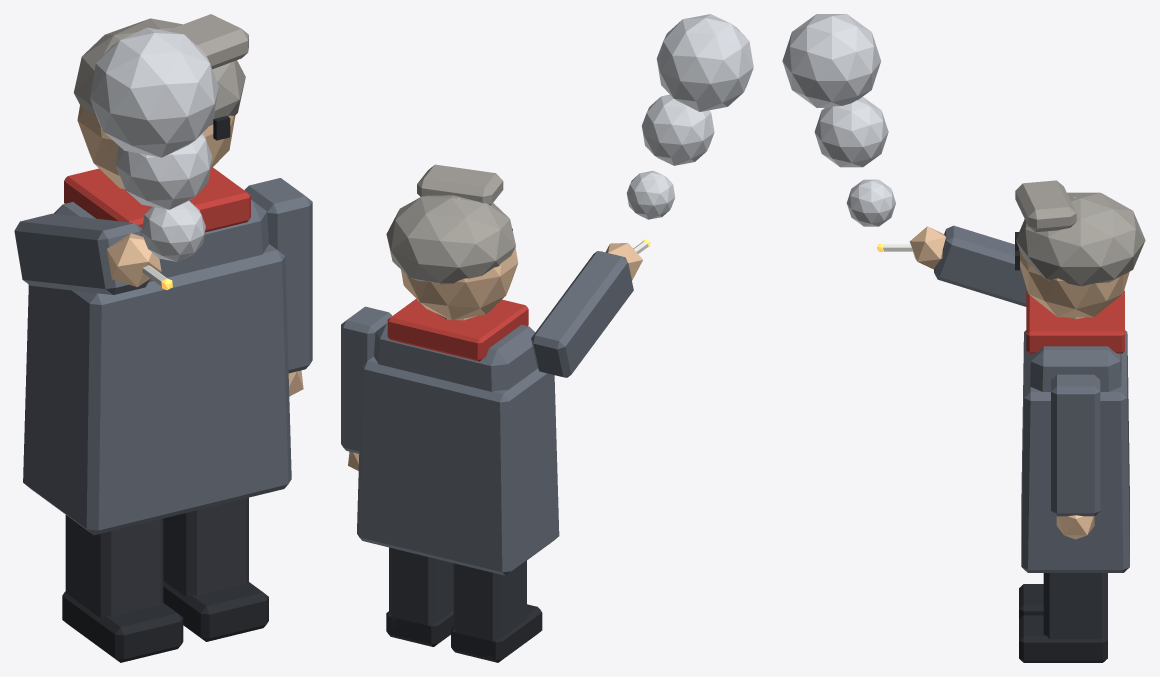
File: smoker.glb
3 renders of one model, left to right at view 1: azimuth 30°, elevation 25°; view 2: azimuth 150°, elevation 25°; view 3: azimuth 270°, elevation 25°, orthographic. The views are drawn at different scales.
Parts seen in each view (by area): view 1: Props, ArmR, LegR, Body, LegL, ArmL; view 2: Props, Body, ArmR, LegR, LegL, ArmL; view 3: ArmR, Props, Body, ArmL, LegL, LegR.
Part boxes in pixels (x1,y1,x2,y2): Props: (23,167,291,535); ArmR: (14,27,218,294); LegR: (62,515,183,662); Body: (53,14,268,282); LegL: (163,497,268,641); ArmL: (244,178,312,396); Props: (357,298,559,575); Body: (374,164,537,391); ArmR: (531,14,753,377); LegR: (451,560,542,662); LegL: (386,547,453,646); ArmL: (341,306,391,470); ArmR: (782,14,1026,306); Props: (1021,290,1129,572); Body: (1015,180,1145,391); ArmL: (1051,374,1100,539); LegL: (1019,573,1107,662); LegR: (1019,584,1043,618).
Bounding box in the file's own units: 0.953 × 1.88 × 1.1.
